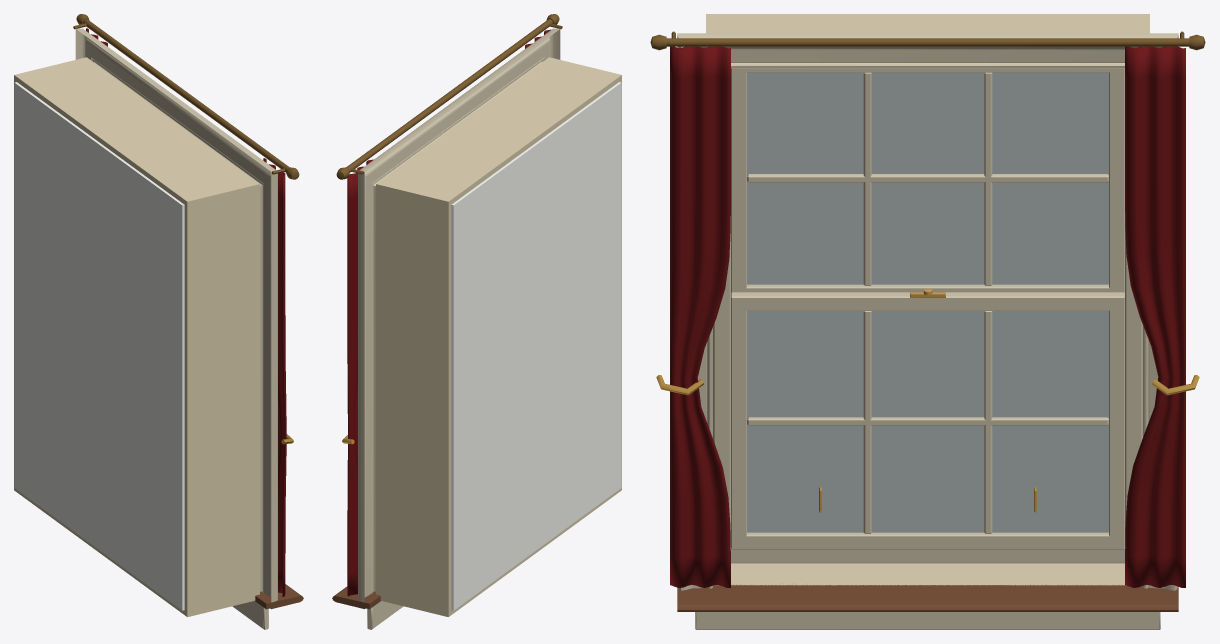
The model's file is window_bright.glb.
3 views of the same model, side by side, from view 1: azimuth 30°, elevation 25°; view 2: azimuth 150°, elevation 25°; view 3: azimuth 270°, elevation 25° (orthographic). The views are drawn at different scales.
Parts seen in each view (by area): view 1: licht, laibung, bekleidung, vorhang-1, stange, fensterbank; view 2: licht, laibung, bekleidung, vorhang1, stange, fensterbank; view 3: glas1, rahmen, glas0, vorhang-1, vorhang1, glas2, bekleidung, laibung, fensterbank, stange.
Boxes of the visible parts, box(x1,y1,x2,y2) form: licht: box(14, 82, 184, 610); laibung: box(14, 57, 259, 616); bekleidung: box(75, 28, 277, 629); vorhang-1: box(263, 158, 286, 596); stange: box(73, 14, 299, 179); fensterbank: box(255, 584, 303, 609); licht: box(451, 82, 621, 610); laibung: box(376, 57, 621, 616); bekleidung: box(358, 28, 560, 629); vorhang1: box(347, 159, 373, 596); stange: box(336, 14, 562, 179); fensterbank: box(332, 586, 380, 609); glas1: box(747, 182, 1108, 532); rahmen: box(713, 68, 1142, 563); glas0: box(747, 72, 1108, 284); vorhang-1: box(670, 46, 730, 587); vorhang1: box(1125, 46, 1185, 587); glas2: box(747, 181, 863, 532); bekleidung: box(677, 33, 1178, 629); laibung: box(706, 14, 1149, 585); fensterbank: box(677, 584, 1178, 611); stange: box(650, 31, 1205, 50).
Size of the model in its own units: 0.445 by 1.85 by 1.55.
